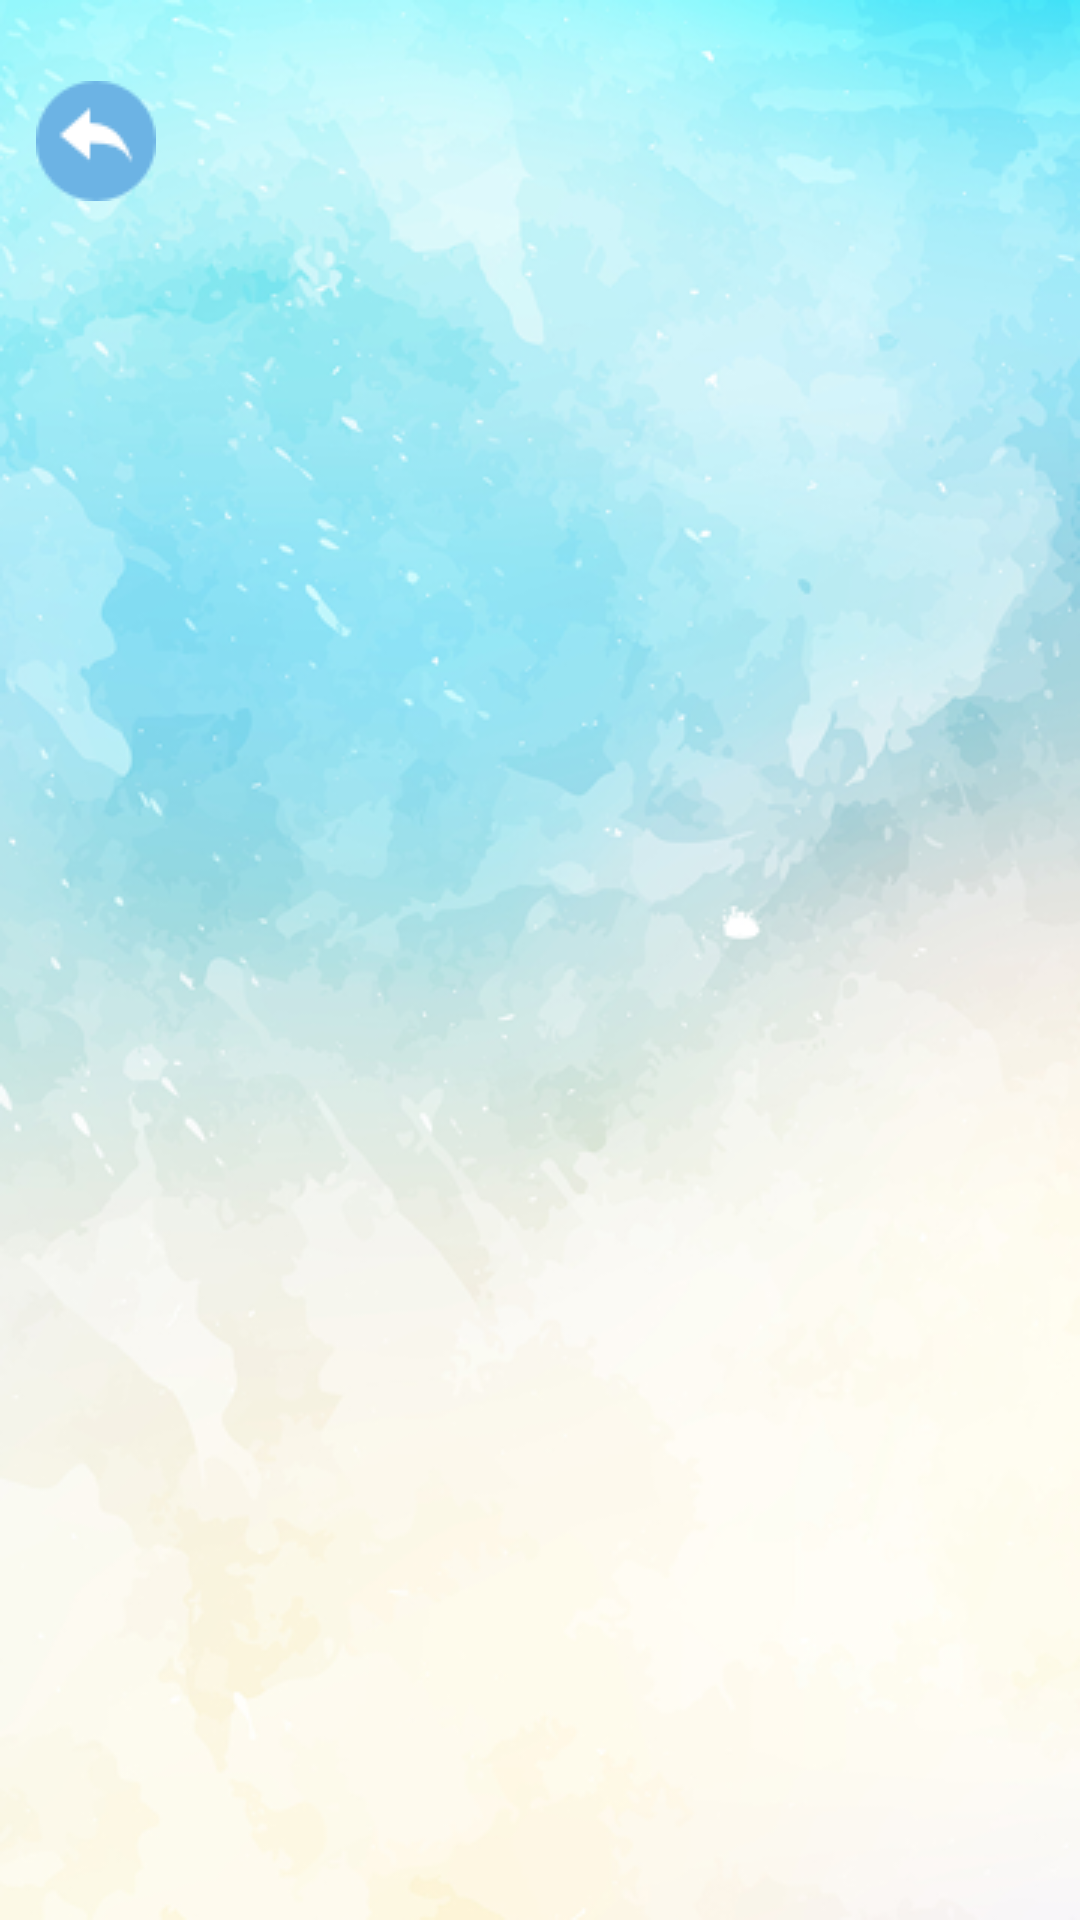

Where to tap for icons on this 1080 x 1920 app screen, as [x,y]:
back: [96,141]
